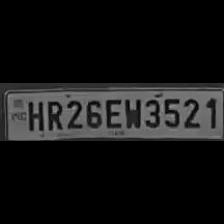1: (201, 95, 217, 129)
2: (181, 96, 201, 130), (64, 98, 82, 130)
3: (142, 96, 160, 128)
5: (161, 95, 179, 129)
6: (82, 97, 102, 129)
E: (102, 96, 122, 128)
H: (24, 98, 43, 132)
R: (44, 97, 62, 130)
W: (122, 96, 142, 130)
